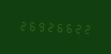nine: (35, 18, 43, 33)
six: (53, 19, 61, 34), (26, 18, 34, 32), (62, 20, 70, 34)
two: (71, 20, 79, 35), (17, 18, 25, 32), (44, 19, 52, 33), (80, 21, 88, 35)
